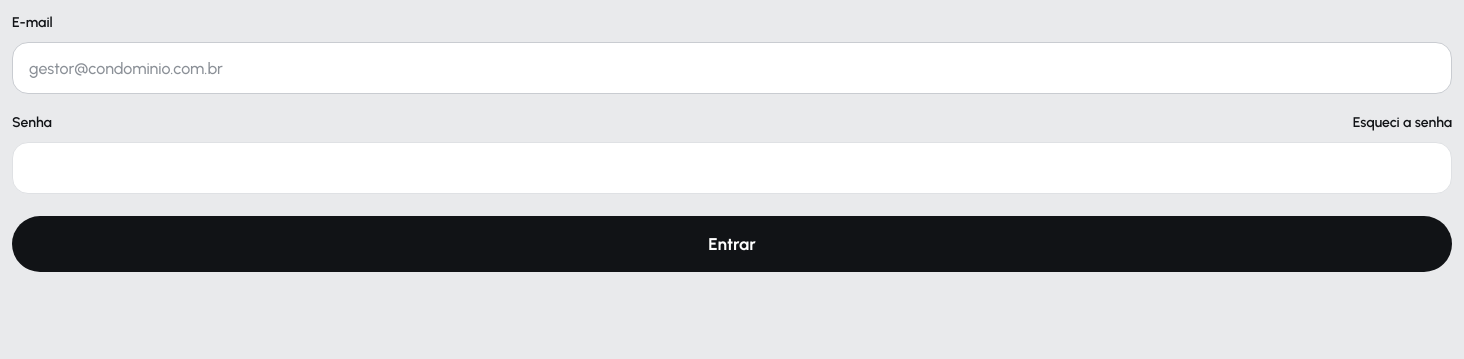
Test: LoginForm › shows a generic error on invalid credentials
The width and height of the screenshot is (1464, 359).
In the field labelled "E-mail": (732,68) [12, 42, 1452, 94], type "marina@example.com"
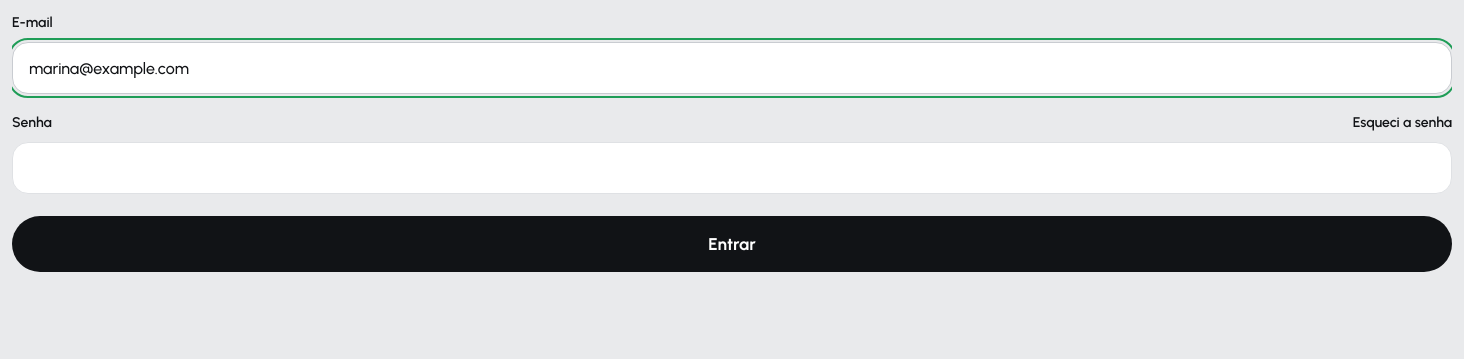
In the password field labelled "Senha": (732,168) [12, 142, 1452, 194], type "wrong-password"
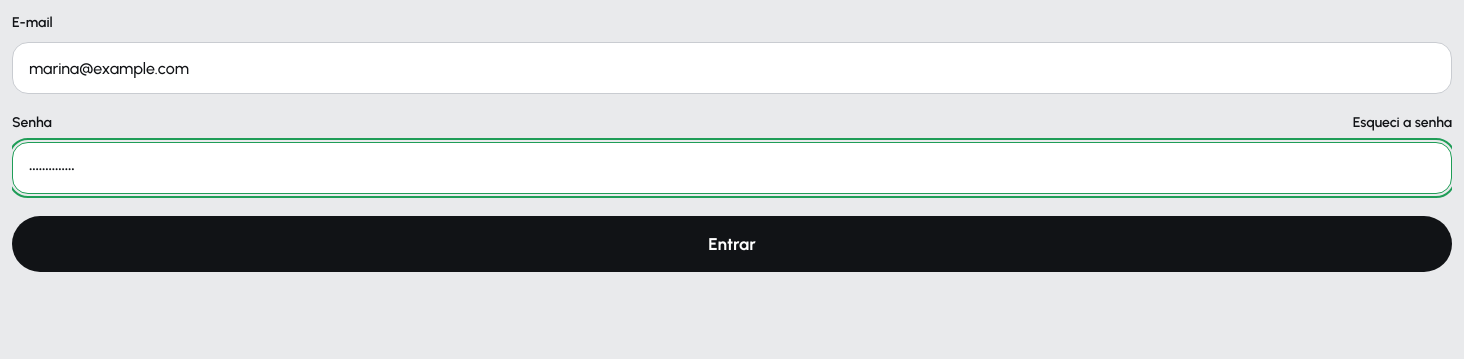
Click the button "Entrar": (732,244) [12, 216, 1452, 272]
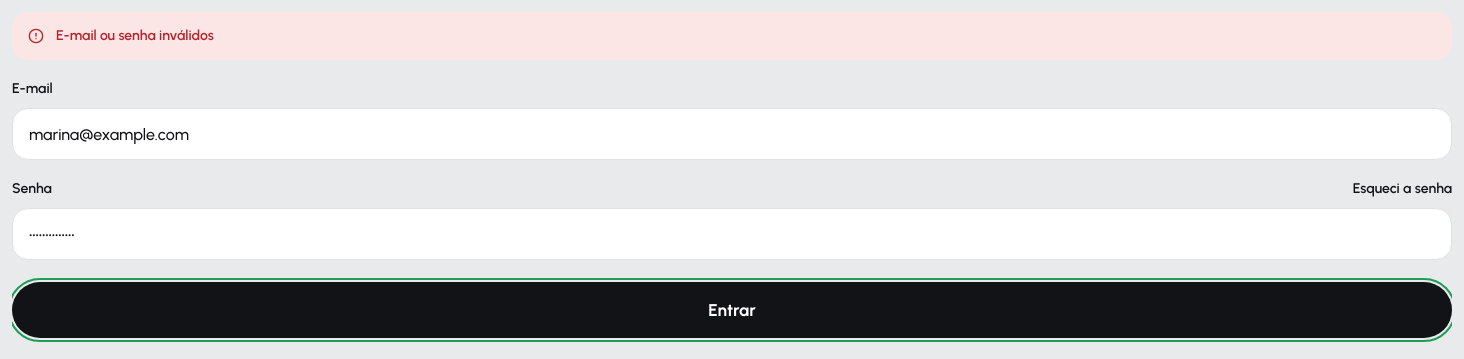
expect the message reads "E-mail ou senha inválidos": met, box [56, 27, 214, 44]
